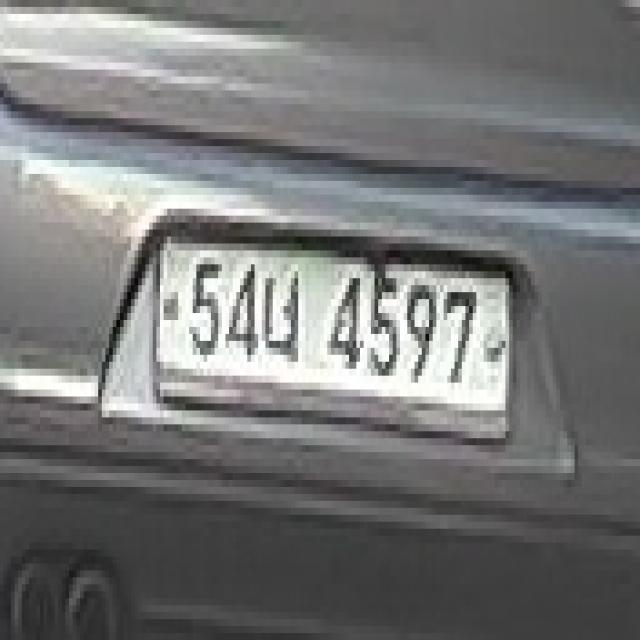4: (328, 258, 368, 390), (222, 250, 269, 362)
5: (186, 244, 226, 376), (371, 251, 396, 404)
7: (440, 278, 484, 397)
9: (407, 250, 440, 410)
license_plate: (146, 209, 509, 445)
neo: (258, 250, 313, 369)
